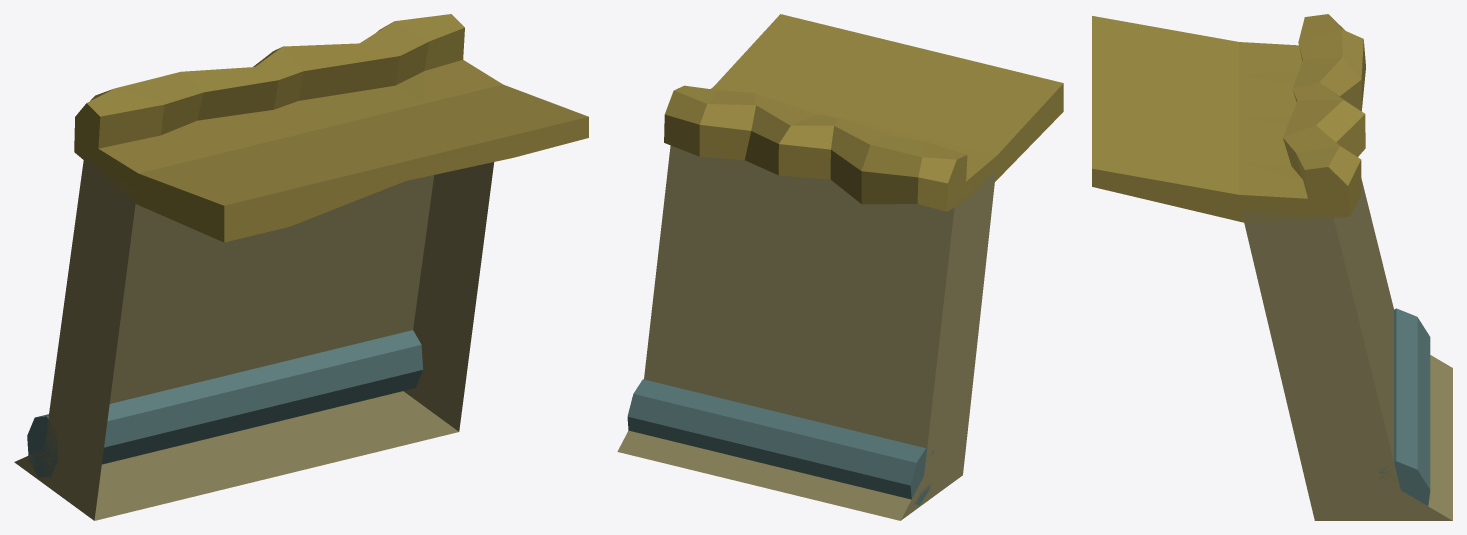
File: Int_2_Wall_Hor_Mid.fbx
3 renders of one model, left to right at view 1: azimuth 30°, elevation 25°; view 2: azimuth 150°, elevation 25°; view 3: azimuth 270°, elevation 25°, orthographic. The views are drawn at different scales.
Parts seen in each view (by area): view 1: Int_2_Wall_Hor_Mid1; view 2: Int_2_Wall_Hor_Mid1; view 3: Int_2_Wall_Hor_Mid1.
Part boxes in pixels (x1,y1,x2,y2): Int_2_Wall_Hor_Mid1: [14, 14, 588, 520]; Int_2_Wall_Hor_Mid1: [617, 14, 1063, 520]; Int_2_Wall_Hor_Mid1: [1092, 14, 1452, 520].
Bounding box in the file's own units: 0.9986 × 1.08 × 0.9964.
